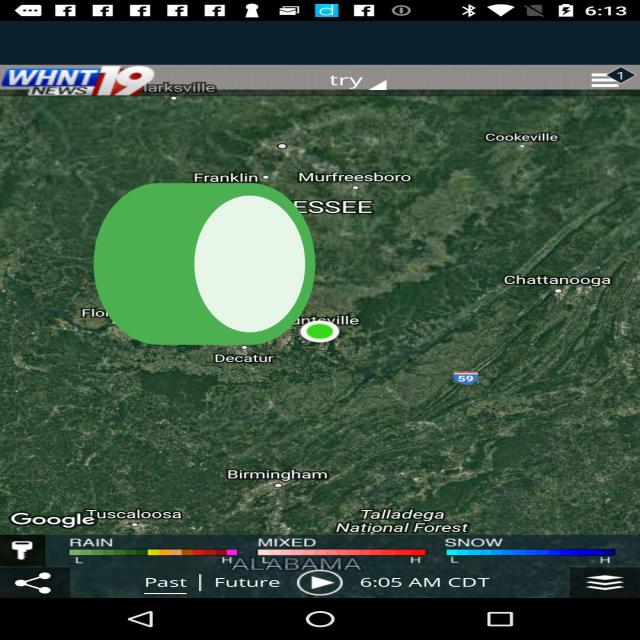social proof: (84, 121, 326, 419)
